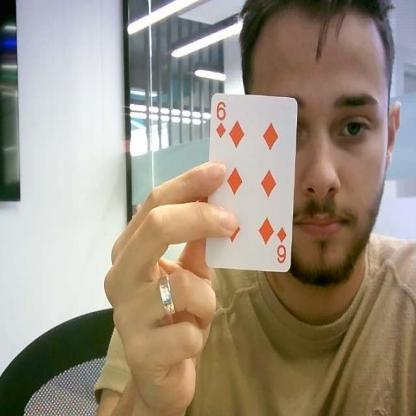6D: (274, 224, 288, 264), (214, 100, 226, 138)
